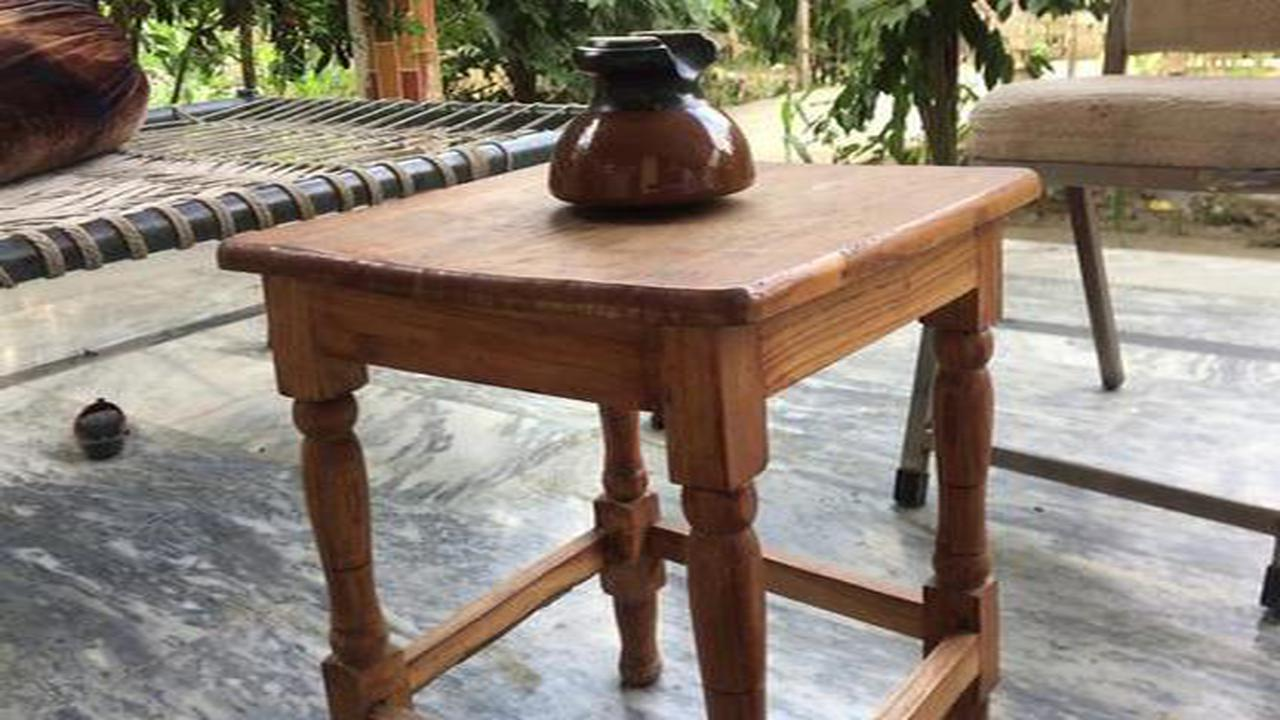insulator_pin: (542, 25, 770, 220)
